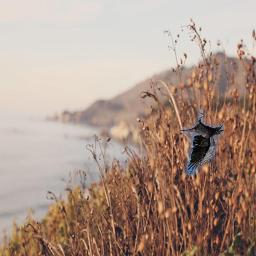Crow: (180, 109, 224, 176)
